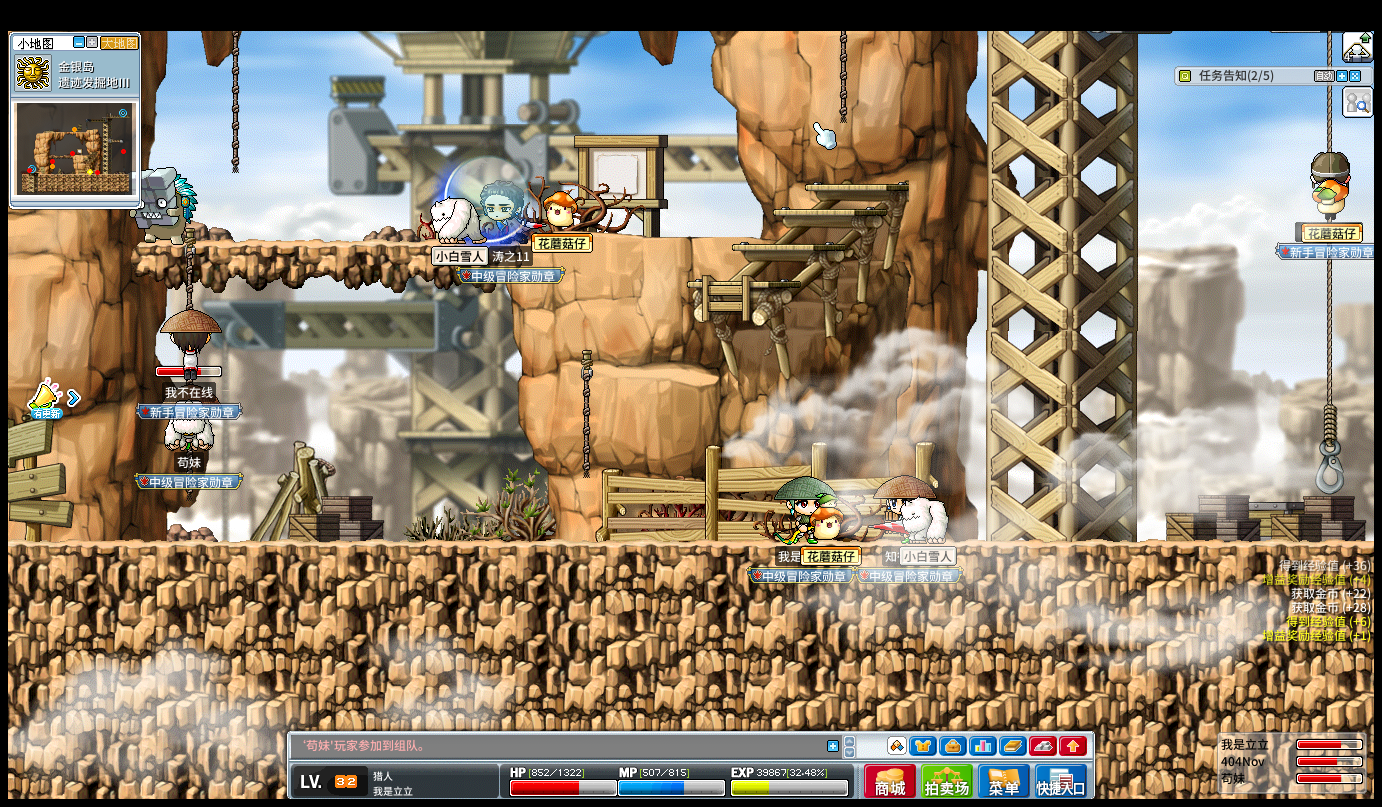floor: (8, 538, 1373, 550), (136, 237, 540, 249), (616, 362, 719, 389), (731, 243, 846, 251), (687, 280, 802, 288), (772, 209, 887, 216), (645, 235, 770, 240), (805, 184, 909, 190)
monster: (142, 168, 198, 244)
rope: (582, 350, 592, 479), (232, 31, 240, 173), (1326, 260, 1333, 406), (185, 228, 194, 310), (840, 31, 847, 122), (1323, 409, 1336, 447), (1326, 87, 1333, 152), (1325, 32, 1332, 67)
